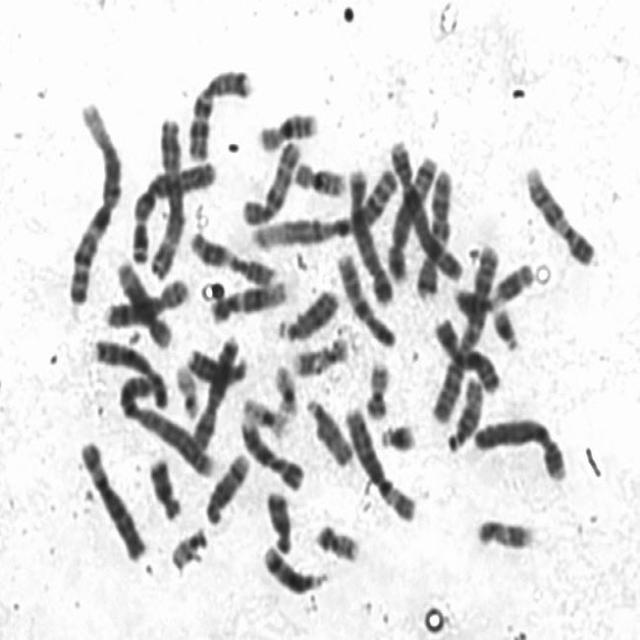A1: (245, 162, 400, 252), (62, 95, 124, 307)
A2: (426, 235, 502, 424), (114, 368, 217, 478)
A3: (126, 153, 221, 266), (144, 110, 188, 282)
B4: (385, 134, 466, 284), (470, 410, 570, 483)
B5: (342, 160, 396, 308), (382, 148, 440, 285)
C10: (332, 246, 398, 350), (238, 134, 304, 228)
C11: (185, 223, 278, 288), (449, 256, 537, 318)
C12: (110, 253, 174, 350), (205, 273, 291, 325)
C6: (75, 433, 149, 563), (341, 400, 419, 523)
C7: (183, 60, 254, 164), (414, 162, 456, 299)
C8: (87, 332, 172, 411), (98, 271, 192, 330)
C9: (520, 158, 599, 267), (236, 411, 307, 492)
D13: (275, 283, 342, 343), (182, 342, 248, 385)
D14: (201, 446, 252, 526), (258, 540, 328, 596)
D15: (302, 392, 356, 469), (443, 370, 486, 454)
E16: (253, 104, 321, 153), (290, 154, 350, 199)
E17: (288, 330, 352, 379), (471, 512, 537, 552)
E18: (144, 451, 184, 522), (261, 483, 295, 555)
F19: (238, 391, 292, 438), (270, 358, 300, 420)
F20: (311, 517, 363, 564), (360, 354, 393, 422)
G21: (488, 300, 523, 354), (375, 416, 419, 454)
G22: (167, 522, 210, 572), (171, 359, 202, 420)
X: (186, 328, 240, 452), (431, 311, 503, 396)
